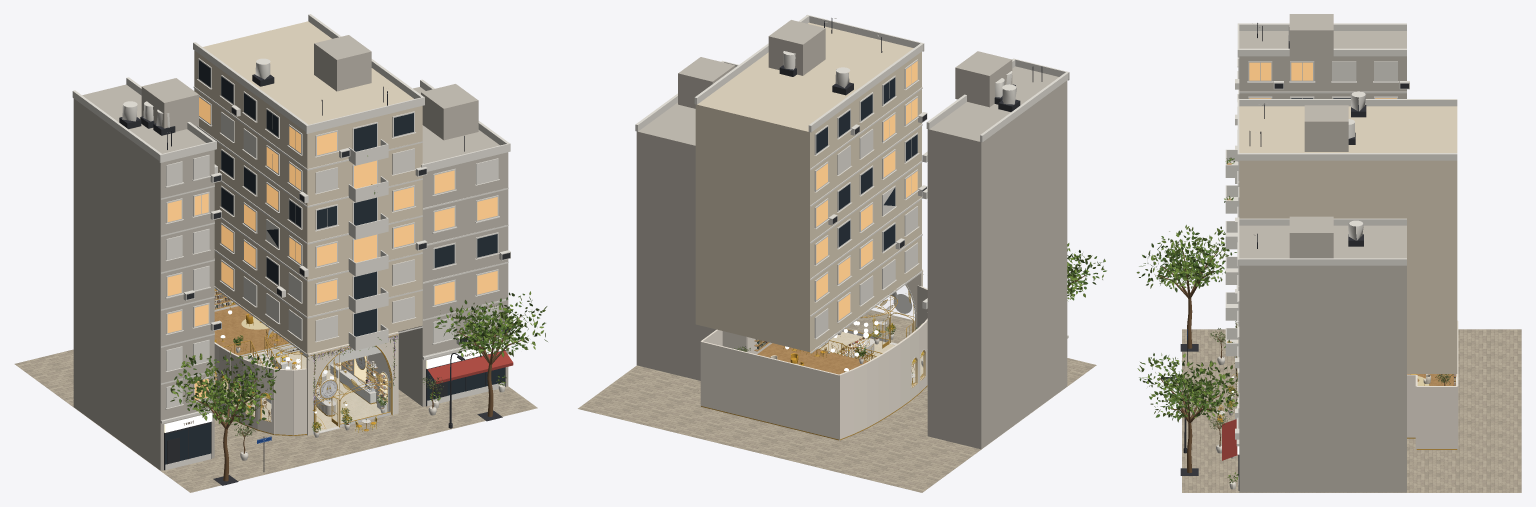
The model's file is flagship_lod1.glb.
The picture shows the model from 3 angles, left to right: view 1: azimuth 30°, elevation 25°; view 2: azimuth 150°, elevation 25°; view 3: azimuth 270°, elevation 25°; orthographic projection. The views are drawn at different scales.
Visible parts, largest first — view 1: bw3, facade_hi, bwtrim, paving, win_lit_n, win, leaf, plaster, leaf2, iron, gold, terrazzo (+7 smaller); view 2: bw3, facade_hi, paving, plaster, bwtrim, win_lit_n, win, gold, floor_wood, terrazzo, iron, leaf; view 3: bw3, facade_hi, paving, bwtrim, leaf, plaster, leaf2, trunk, iron, win_lit_n, aw_r.
Boxes of the visible parts, bbox=[...] form: bw3: bbox=[73, 35, 508, 470]; facade_hi: bbox=[194, 21, 422, 353]; bwtrim: bbox=[72, 14, 510, 470]; paving: bbox=[14, 349, 537, 492]; win_lit_n: bbox=[167, 97, 497, 400]; win: bbox=[165, 60, 504, 464]; leaf: bbox=[170, 155, 547, 431]; plaster: bbox=[214, 286, 390, 435]; leaf2: bbox=[173, 184, 547, 435]; iron: bbox=[119, 74, 510, 485]; gold: bbox=[214, 290, 398, 435]; terrazzo: bbox=[214, 347, 386, 430]; bw3: bbox=[636, 20, 1067, 449]; facade_hi: bbox=[695, 22, 921, 352]; paving: bbox=[578, 309, 1096, 492]; plaster: bbox=[700, 285, 927, 439]; bwtrim: bbox=[635, 14, 1069, 353]; win_lit_n: bbox=[816, 61, 917, 320]; win: bbox=[816, 77, 917, 250]; gold: bbox=[701, 285, 927, 440]; floor_wood: bbox=[757, 343, 867, 374]; terrazzo: bbox=[820, 331, 923, 383]; iron: bbox=[779, 18, 1042, 248]; leaf: bbox=[740, 243, 1105, 356]; bw3: bbox=[1239, 14, 1406, 492]; facade_hi: bbox=[1239, 106, 1457, 373]; paving: bbox=[1182, 329, 1521, 492]; bwtrim: bbox=[1225, 23, 1457, 490]; leaf: bbox=[1136, 157, 1447, 482]; plaster: bbox=[1407, 321, 1458, 449]; leaf2: bbox=[1139, 158, 1453, 481]; trunk: bbox=[1156, 250, 1446, 473]; iron: bbox=[1161, 23, 1408, 490]; win_lit_n: bbox=[1249, 62, 1396, 98]; aw_r: bbox=[1222, 419, 1237, 460].
Size of the model in its own units: 31.32 by 28.19 by 29.9.
71 materials, 21 textured.
